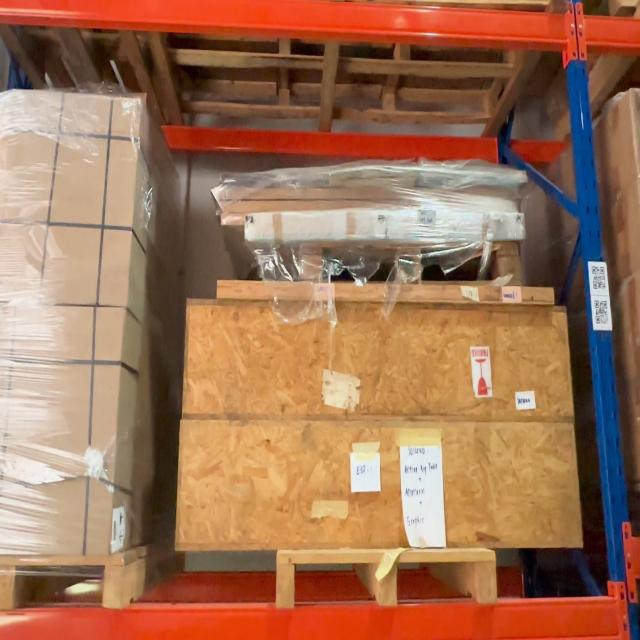box: (180, 426, 572, 546), (186, 300, 566, 422), (218, 281, 387, 298), (390, 290, 554, 298)
